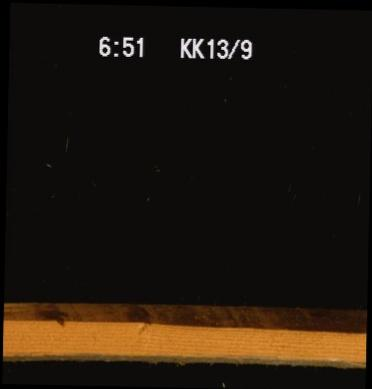wave: (3, 300, 365, 330), (4, 348, 364, 370)
